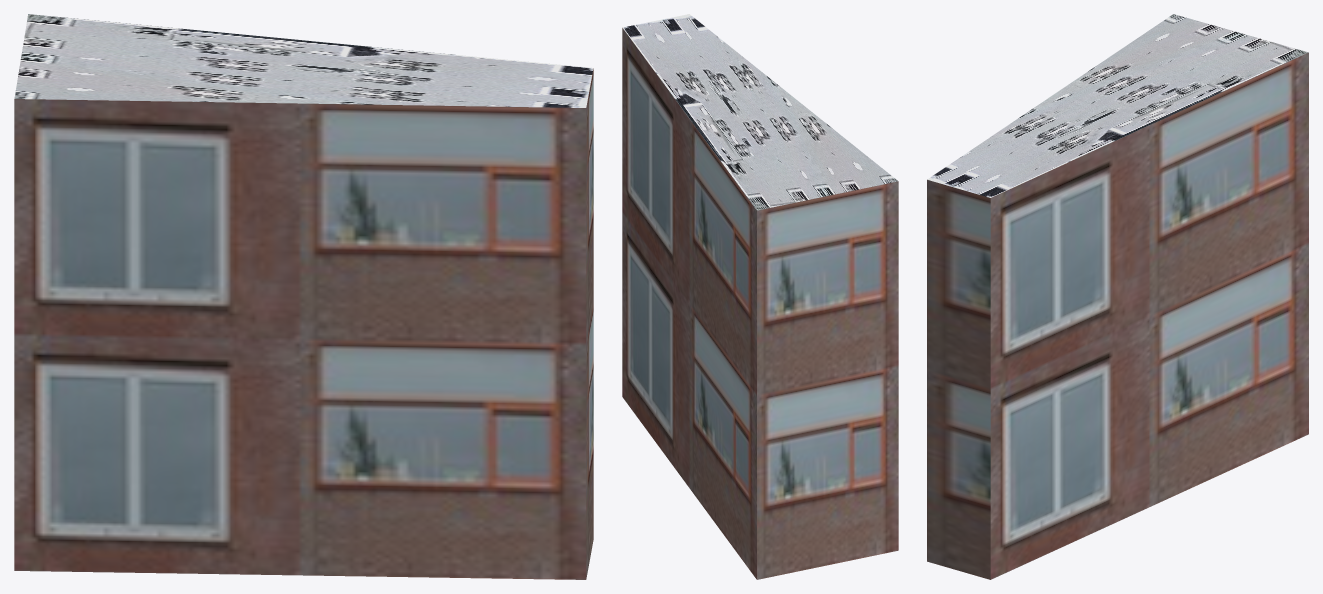
Rendered from ResTex__4314.fbx.
The picture shows the model from 3 angles, left to right: view 1: azimuth 30°, elevation 25°; view 2: azimuth 150°, elevation 25°; view 3: azimuth 270°, elevation 25°; orthographic projection. The views are drawn at different scales.
Visible parts, largest first — view 1: CityEngineMaterial_19_m, CityEngineMaterial_15_m; view 2: CityEngineMaterial_19_m, CityEngineMaterial_15_m; view 3: CityEngineMaterial_19_m, CityEngineMaterial_15_m.
Boxes of the visible parts, x1,y1,x2,y2 form: CityEngineMaterial_19_m: (14,68,593,579); CityEngineMaterial_15_m: (14,14,593,107); CityEngineMaterial_19_m: (622,28,898,579); CityEngineMaterial_15_m: (622,14,897,210); CityEngineMaterial_19_m: (927,52,1308,579); CityEngineMaterial_15_m: (927,14,1308,197).
Bounding box in the file's own units: 6.2 × 6 × 5.44.
Materials: 2 (2 with a texture image).
